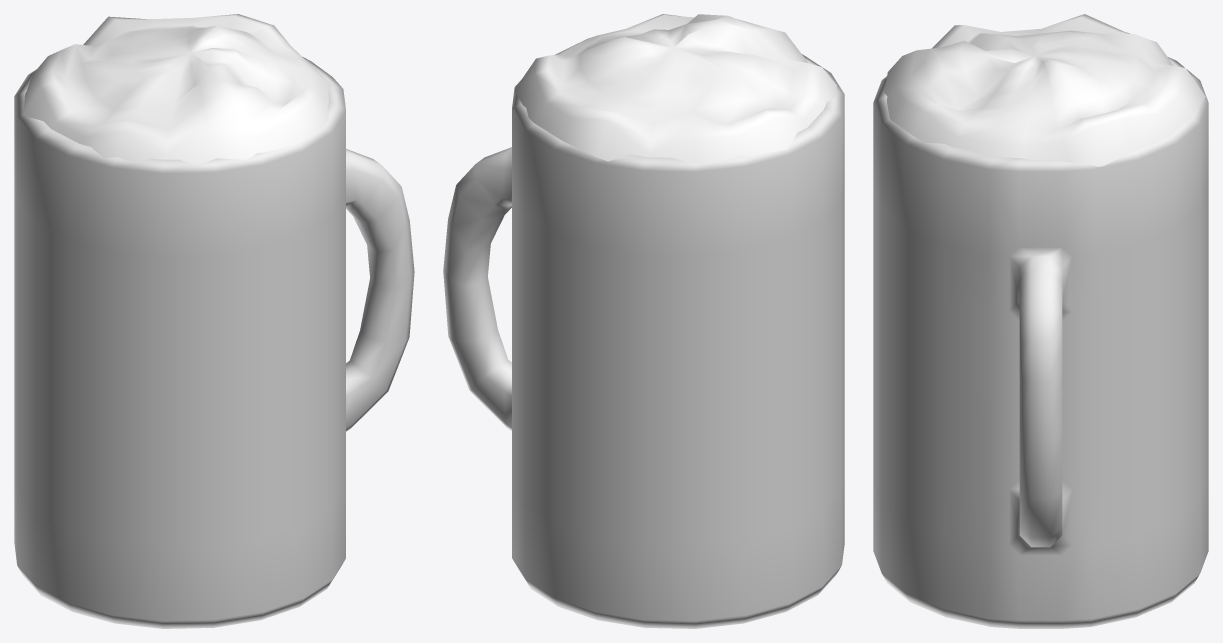
The model's file is k_jokki.fbx.
The picture shows the model from 3 angles, left to right: view 1: azimuth 30°, elevation 25°; view 2: azimuth 150°, elevation 25°; view 3: azimuth 270°, elevation 25°; orthographic projection.
Parts seen in each view (by area): view 1: jokki_m; view 2: jokki_m; view 3: jokki_m.
Boxes of the visible parts, box(x1,y1,x2,y2) form: jokki_m: box(14, 14, 414, 628); jokki_m: box(443, 14, 844, 628); jokki_m: box(873, 14, 1208, 628).
Bounding box in the file's own units: 37.55 × 49.63 × 29.
